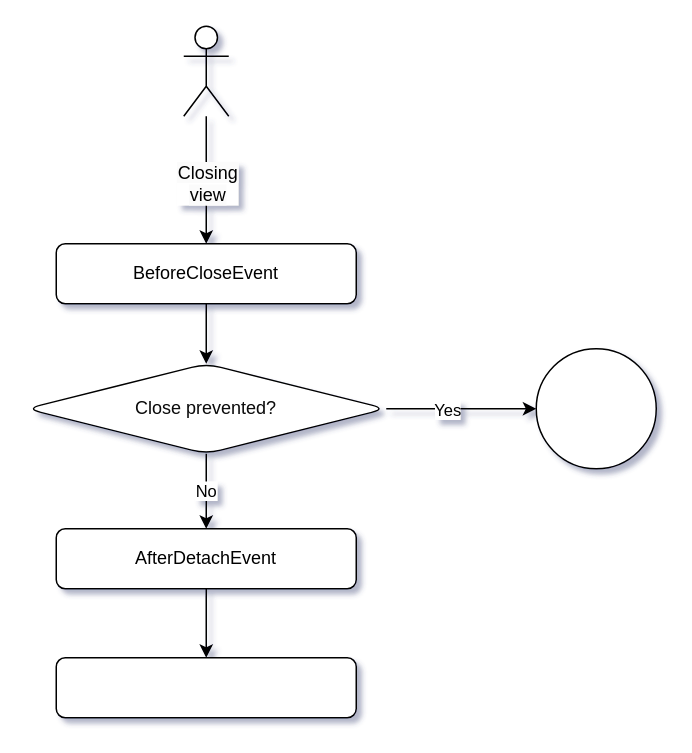
This 692x753 diagram has some shape labels left out. Here are the shapes that lost their labels. From the top down, the box of each, then its label:
(535, 347, 656, 469): View closing interrupted
(55, 656, 356, 718): AfterCloseEvent
